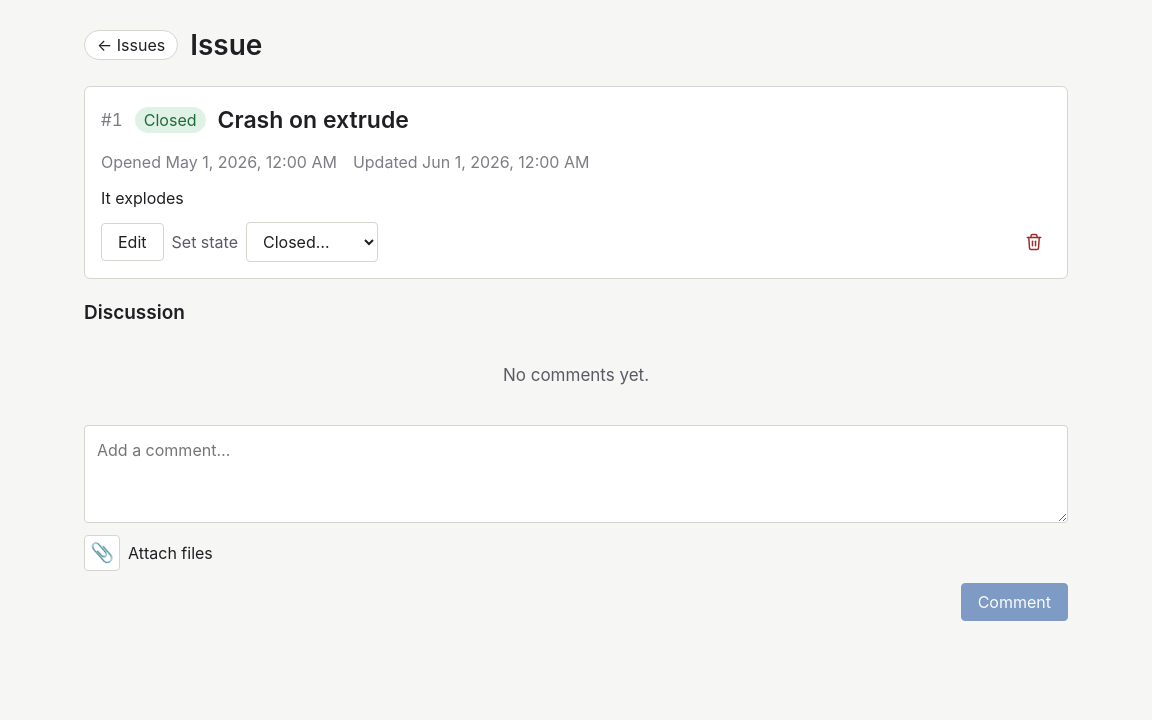
TicketsView — set state / delete › lets an admin set any state directly — even one the graph forbids
The width and height of the screenshot is (1152, 720).
Select "Rejected" in the dropdown labelled "Set state" at (312, 242), box [246,222,378,262]
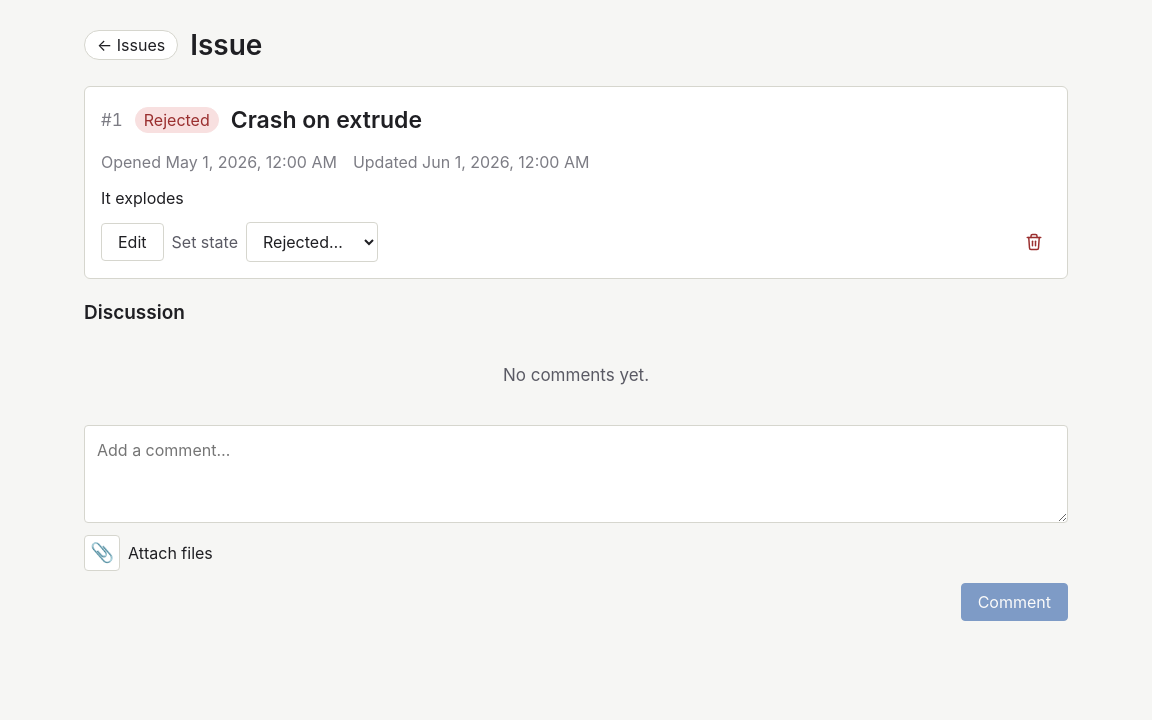
expect the text "Rejected" is shown: met, box [135,107,219,133]
